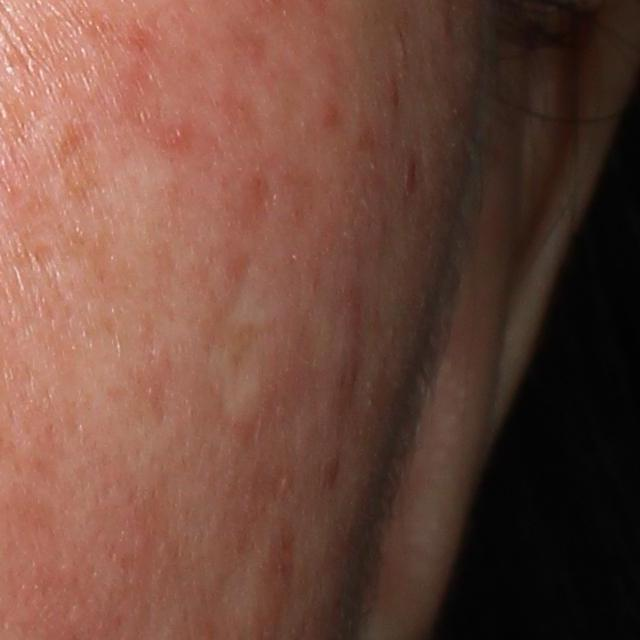other: (200, 261, 271, 428)
papule: (384, 75, 402, 110), (322, 105, 342, 126)
